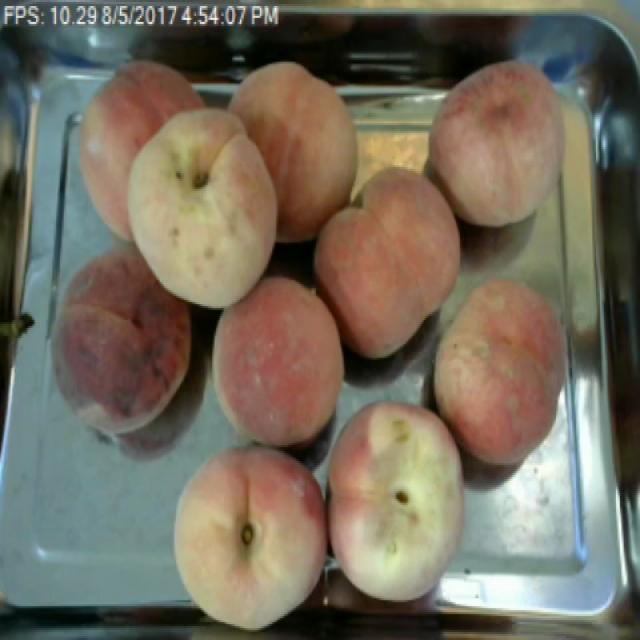Fruit: (97, 91, 291, 324), (22, 231, 214, 459), (412, 266, 584, 479), (301, 163, 475, 370), (158, 429, 330, 638), (327, 386, 480, 612), (193, 264, 360, 461), (423, 50, 577, 238), (222, 52, 366, 250)
